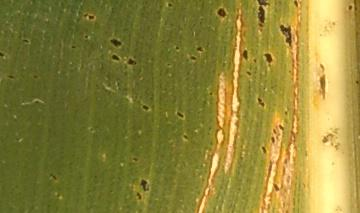tarspot: (255, 1, 271, 35), (277, 22, 294, 51), (262, 49, 276, 70), (214, 4, 229, 20), (108, 35, 124, 49), (139, 177, 151, 192), (254, 95, 266, 109), (124, 56, 139, 67), (239, 47, 250, 62), (46, 171, 59, 183), (139, 101, 152, 113), (83, 12, 97, 22), (243, 67, 254, 79), (194, 44, 206, 54), (109, 53, 122, 61), (175, 109, 185, 119), (6, 72, 17, 81), (260, 144, 269, 155), (130, 155, 140, 164), (272, 183, 281, 193), (82, 32, 91, 41), (134, 191, 143, 200), (165, 1, 174, 10), (277, 122, 286, 131), (1, 50, 9, 60), (21, 38, 31, 46), (188, 54, 198, 62), (292, 1, 302, 9), (269, 135, 277, 144), (270, 128, 279, 135), (70, 43, 78, 50), (32, 72, 39, 80), (283, 108, 289, 117), (173, 45, 180, 52), (252, 57, 258, 64)
